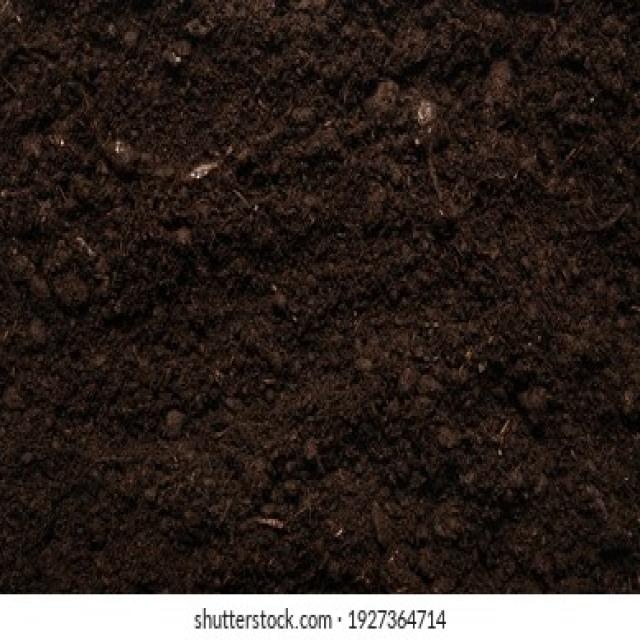Black Soil: (39, 81, 590, 512)
